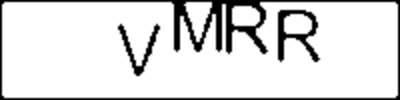M: (170, 1, 225, 57)
R: (272, 7, 325, 66), (223, 1, 273, 58)
V: (112, 20, 165, 80)
